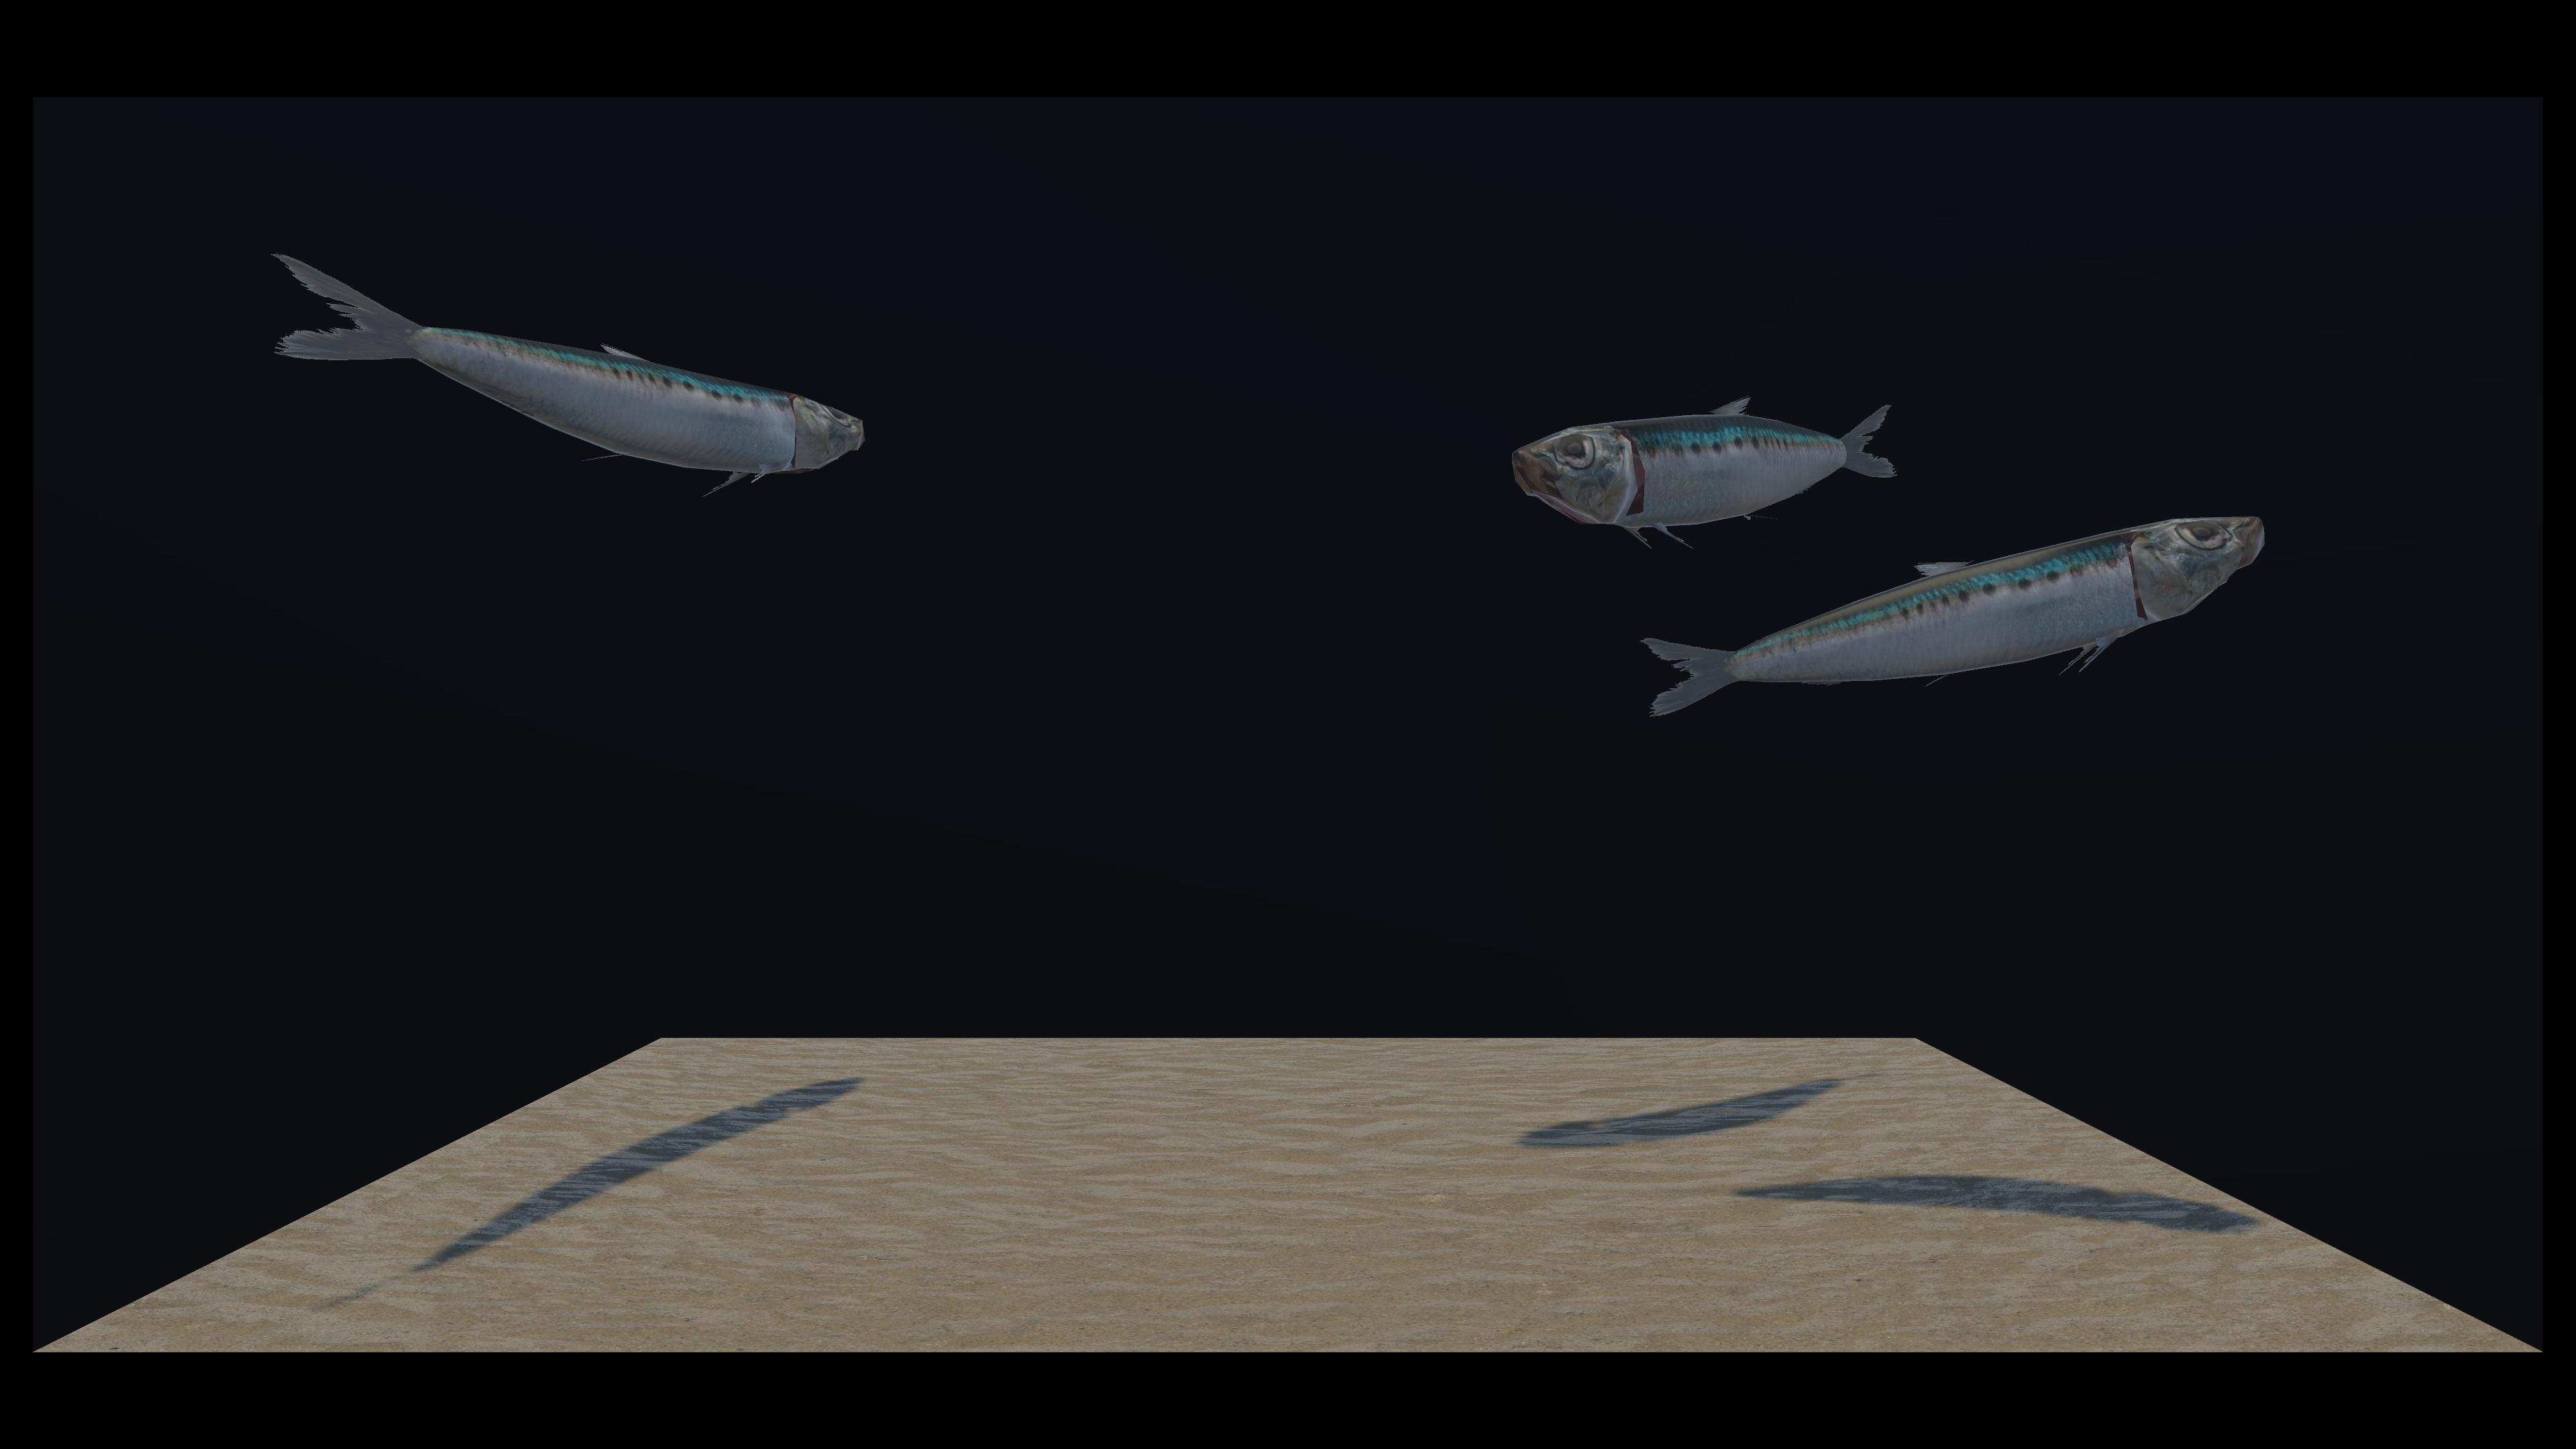Sardine_Front: (938, 433, 2252, 718), (294, 251, 970, 557), (778, 370, 1893, 554)
